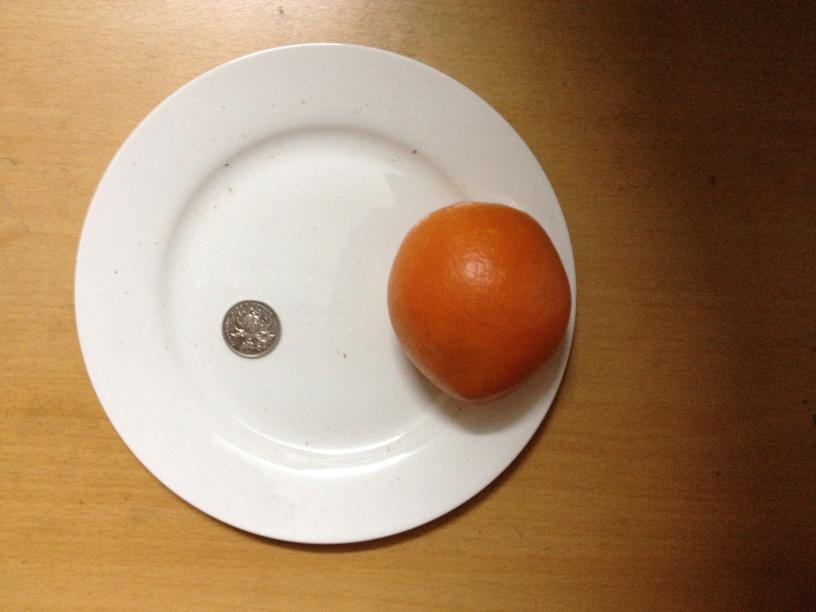coin: (218, 298, 280, 359)
orange: (391, 195, 573, 405)
